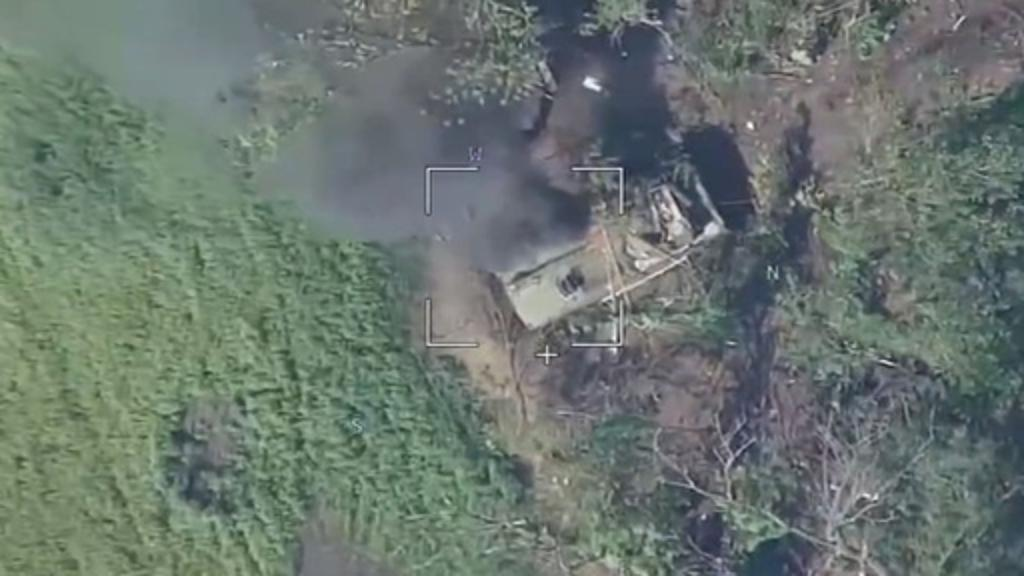ART: (476, 144, 734, 330)
